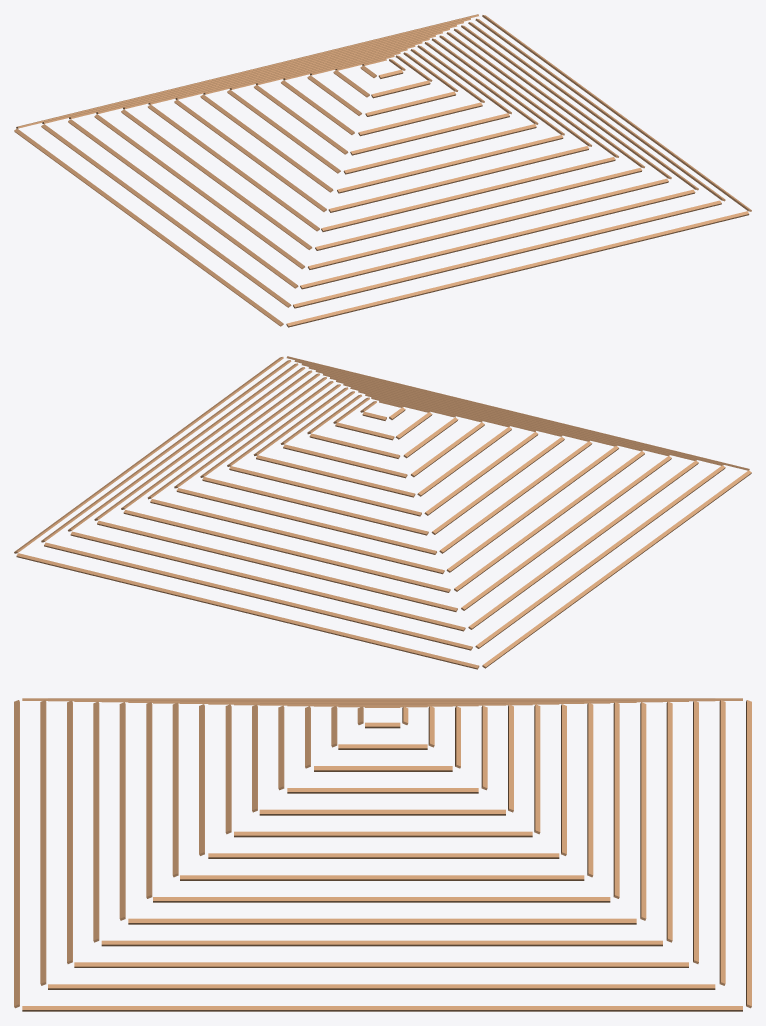
The picture shows the model from 3 angles, top to bottom: view 1: azimuth 30°, elevation 25°; view 2: azimuth 150°, elevation 25°; view 3: azimuth 270°, elevation 25°; orthographic projection. The views are drawn at different scales.
Visible parts, largest first — view 1: Horizontal_ges; view 2: Horizontal_ges; view 3: Horizontal_ges.
Boxes of the visible parts, left/top/right/bottom form: Horizontal_ges: left=14, top=14, right=751, bottom=327; Horizontal_ges: left=14, top=356, right=751, bottom=669; Horizontal_ges: left=14, top=698, right=751, bottom=1011.
Bounding box in the file's own units: 10.86 × 2.31 × 10.86.
